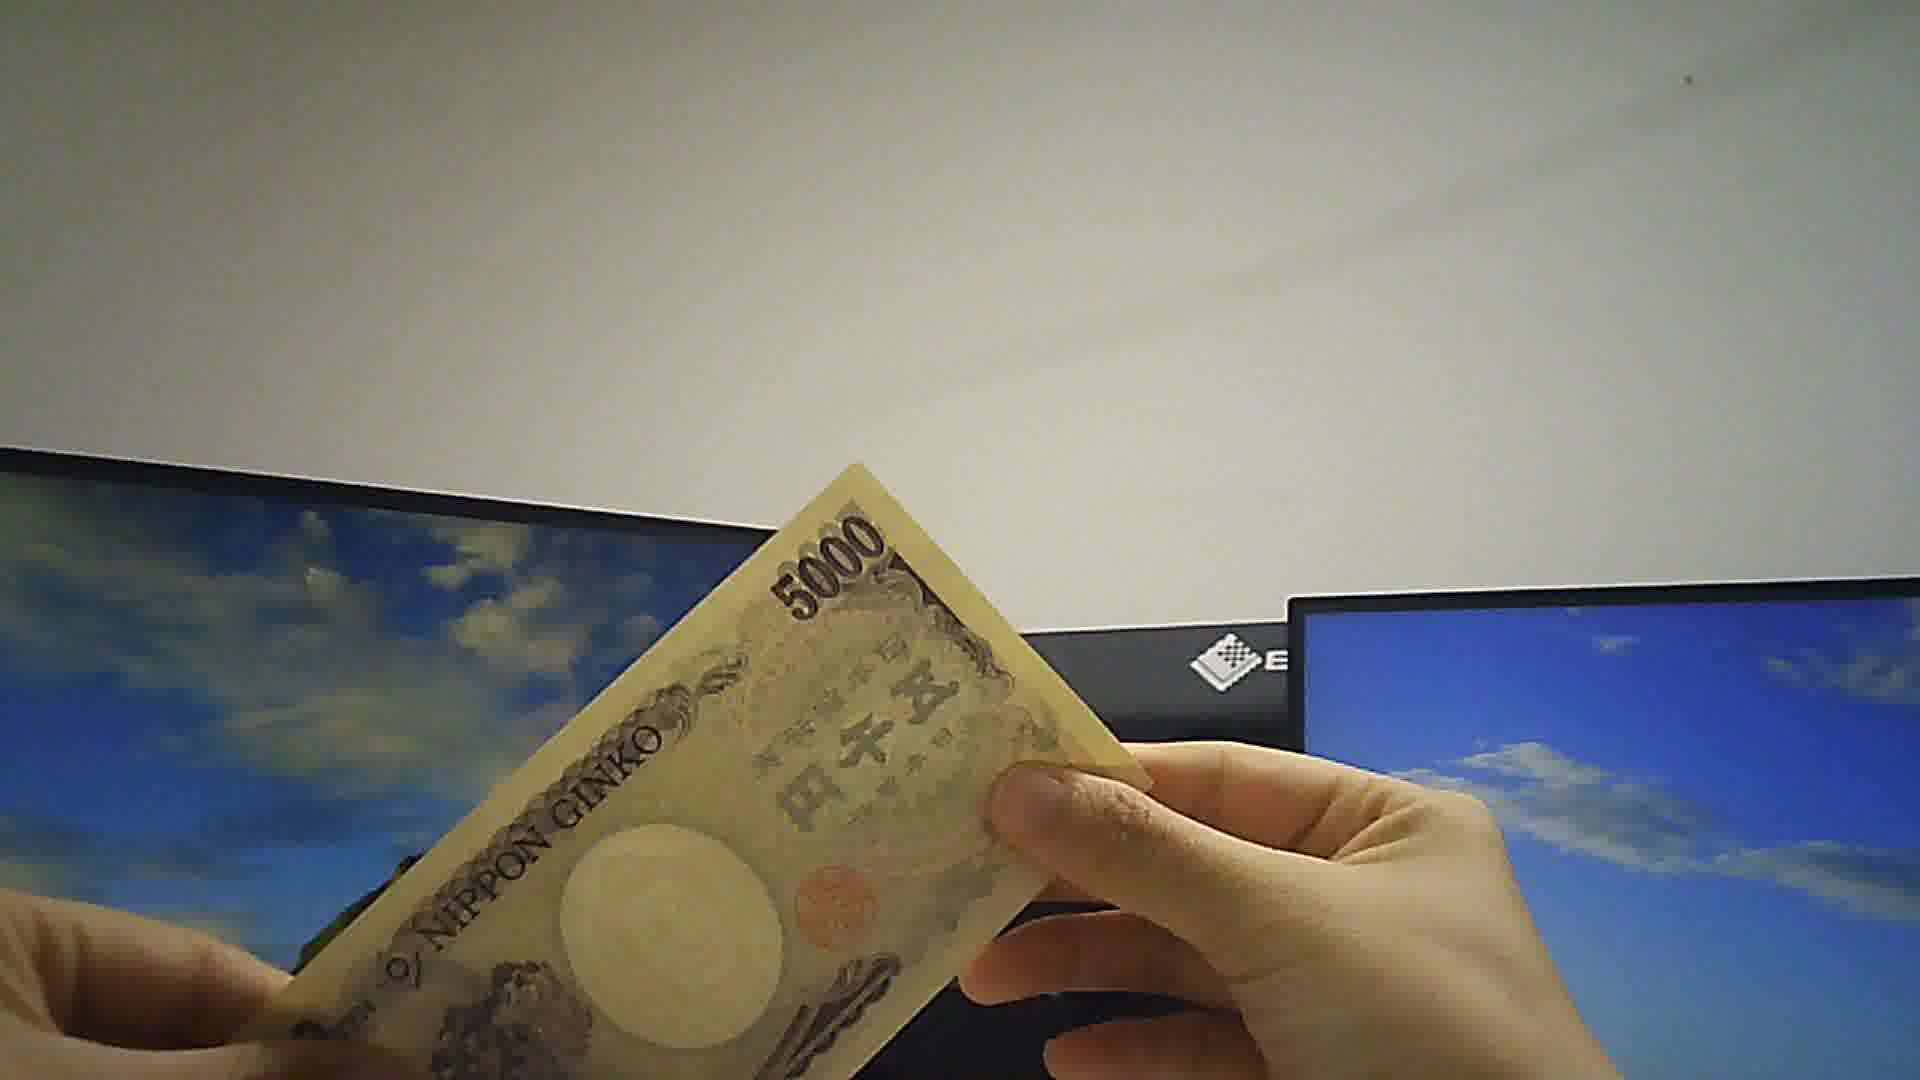5,000 Yen: (198, 465, 1083, 1079)
